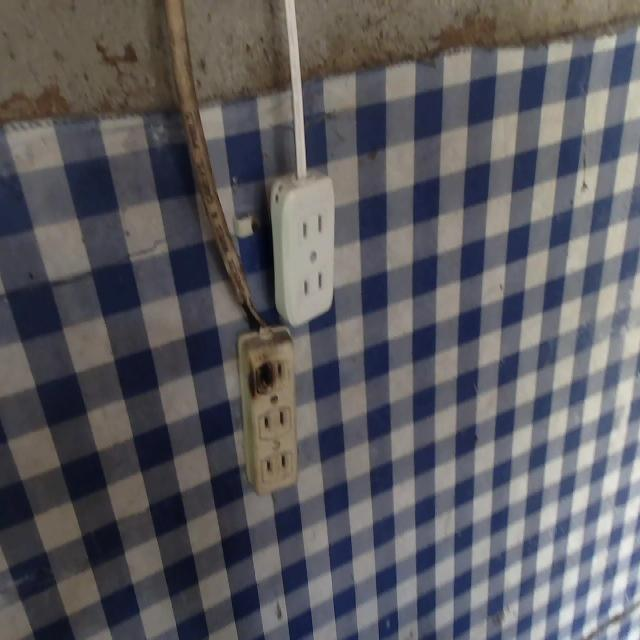-: (245, 353, 276, 400)
